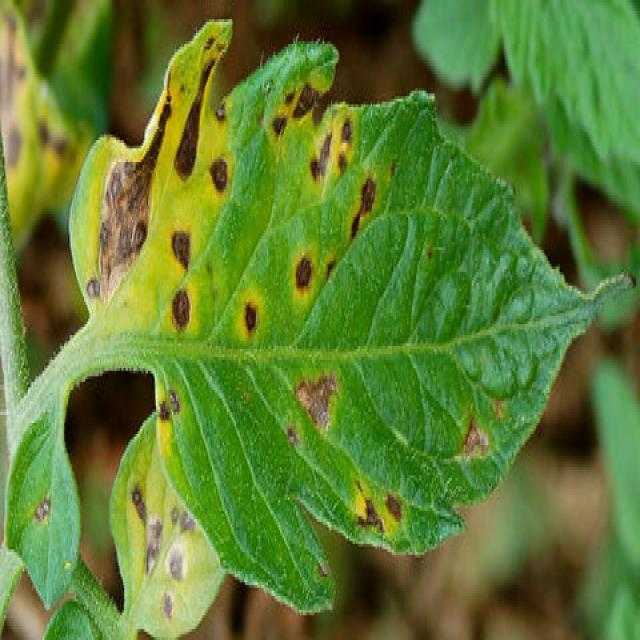Bacterial Spot: (90, 74, 381, 508)
